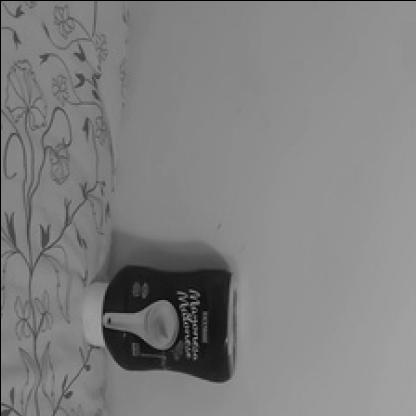plastic_bottles: (76, 268, 240, 392)
